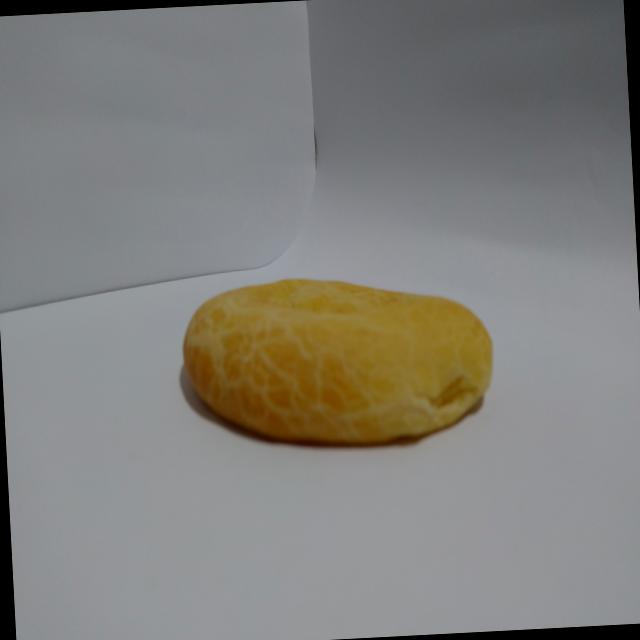Chipa: (170, 254, 500, 466)
